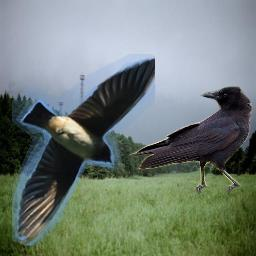Crow: (128, 86, 254, 194)
Swallow: (12, 54, 155, 246)
